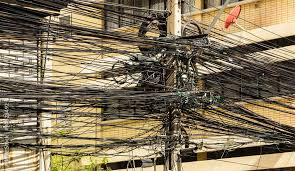wires: (2, 7, 295, 142)
